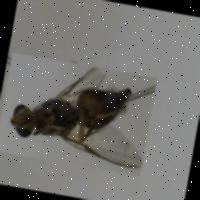Oriental-fruit-fly: (0, 50, 156, 174)
